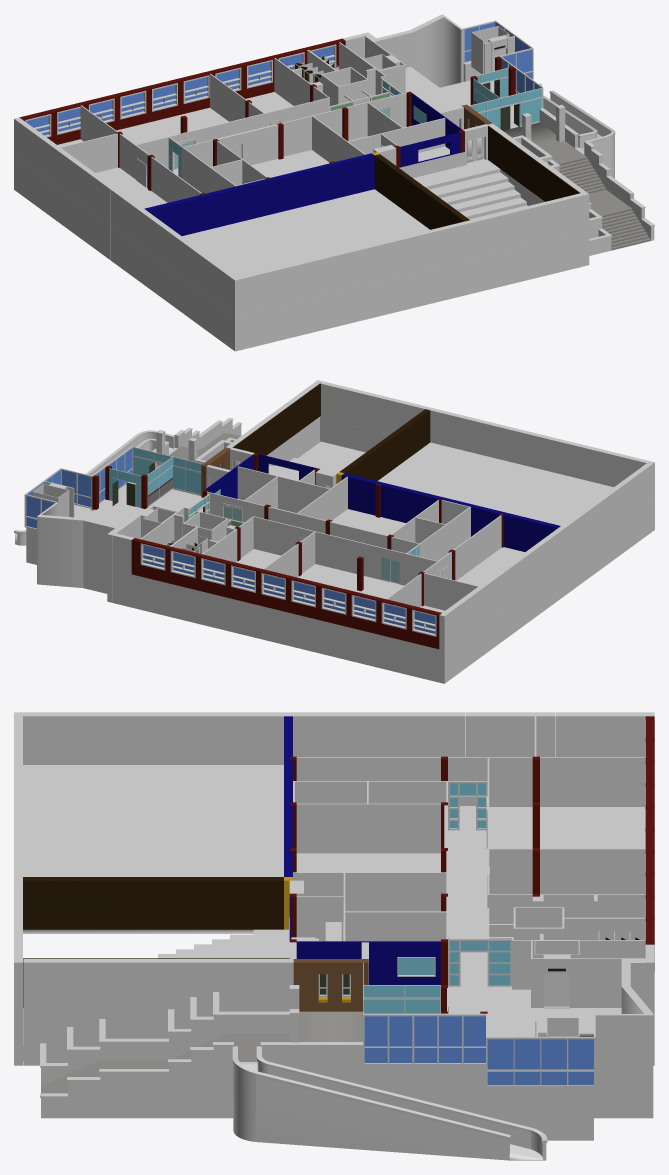
File: GM_PGH.fbx
3 views of the same model, one above another, from view 1: azimuth 30°, elevation 25°; view 2: azimuth 150°, elevation 25°; view 3: azimuth 270°, elevation 25° (orthographic). The views are drawn at different scales.
Parts seen in each view (by area): view 1: Floor_rock_01, Interior_walll_rock_24, Outer_walll_brick_15, Floor_carpet_01, Interior_walll_cotton_02, Interior_walll_cotton_01, Outer_walll_brick_17_Inst07, Outer_walll_brick_17_Inst06, Outer_walll_brick_17_Inst11, Outer_walll_brick_17_Inst08, Outer_walll_brick_17_Inst09, Outer_walll_brick_17_Inst10 (+54 smaller); view 2: Floor_rock_01, Outer_walll_brick_15, Interior_walll_rock_24, Interior_walll_rock_10, Interior_walll_cotton_02, Interior_walll_cotton_01, Outer_walll_brick_17_Inst11, Outer_walll_brick_05, Outer_walll_brick_17_Inst07, Outer_walll_brick_17_Inst08, Outer_walll_brick_17_Inst09, Floor_Wood_01 (+60 smaller); view 3: Floor_rock_01, Entrance_railing_rock_01, Interior_walll_cotton_02, Entrance_wall_rock_02_Inst01, Interior_walll_rock_20, Floor_Wood_01, Interior_walll_rock_06, Interior_walll_rock_17_Inst01, Outer_walll_brick_17_Inst12, Outer_walll_brick_17_Inst13, Interior_walll_rock_06_Inst01, Outer_walll_brick_17_Inst05 (+54 smaller).
Boxes of the visible parts, left/top/right/bottom form: Floor_rock_01: left=57, top=92, right=429, bottom=276; Interior_walll_rock_24: left=144, top=153, right=374, bottom=235; Outer_walll_brick_15: left=19, top=38, right=345, bottom=144; Floor_carpet_01: left=413, top=160, right=527, bottom=219; Interior_walll_cotton_02: left=374, top=154, right=469, bottom=229; Interior_walll_cotton_01: left=488, top=126, right=580, bottom=201; Outer_walll_brick_17_Inst07: left=291, top=251, right=348, bottom=301; Outer_walll_brick_17_Inst06: left=238, top=264, right=294, bottom=315; Outer_walll_brick_17_Inst11: left=507, top=198, right=563, bottom=249; Outer_walll_brick_17_Inst08: left=345, top=237, right=401, bottom=288; Outer_walll_brick_17_Inst09: left=399, top=224, right=455, bottom=275; Outer_walll_brick_17_Inst10: left=453, top=211, right=509, bottom=262; Floor_rock_01: left=235, top=442, right=613, bottom=612; Outer_walll_brick_15: left=131, top=538, right=441, bottom=649; Interior_walll_rock_24: left=341, top=473, right=560, bottom=551; Interior_walll_rock_10: left=315, top=531, right=437, bottom=585; Interior_walll_cotton_02: left=340, top=409, right=430, bottom=480; Interior_walll_cotton_01: left=232, top=383, right=320, bottom=455; Outer_walll_brick_17_Inst11: left=339, top=386, right=393, bottom=434; Outer_walll_brick_05: left=37, top=502, right=85, bottom=554; Outer_walll_brick_17_Inst07: left=544, top=436, right=598, bottom=482; Outer_walll_brick_17_Inst08: left=493, top=423, right=546, bottom=469; Outer_walll_brick_17_Inst09: left=442, top=411, right=495, bottom=457; Floor_Wood_01: left=74, top=489, right=202, bottom=527; Floor_rock_01: left=23, top=765, right=644, bottom=941; Entrance_railing_rock_01: left=233, top=1061, right=546, bottom=1160; Interior_walll_cotton_02: left=23, top=877, right=283, bottom=929; Entrance_wall_rock_02_Inst01: left=41, top=1046, right=233, bottom=1118; Interior_walll_rock_20: left=296, top=803, right=440, bottom=853; Floor_Wood_01: left=448, top=952, right=621, bottom=1036; Interior_walll_rock_06: left=540, top=757, right=645, bottom=806; Interior_walll_rock_17_Inst01: left=293, top=872, right=446, bottom=921; Outer_walll_brick_17_Inst12: left=23, top=959, right=113, bottom=1014; Outer_walll_brick_17_Inst13: left=113, top=959, right=203, bottom=1014; Interior_walll_rock_06_Inst01: left=540, top=848, right=645, bottom=894; Outer_walll_brick_17_Inst05: left=104, top=712, right=194, bottom=764.
Bounding box in the file's own units: 17889 × 2500 × 14010.
